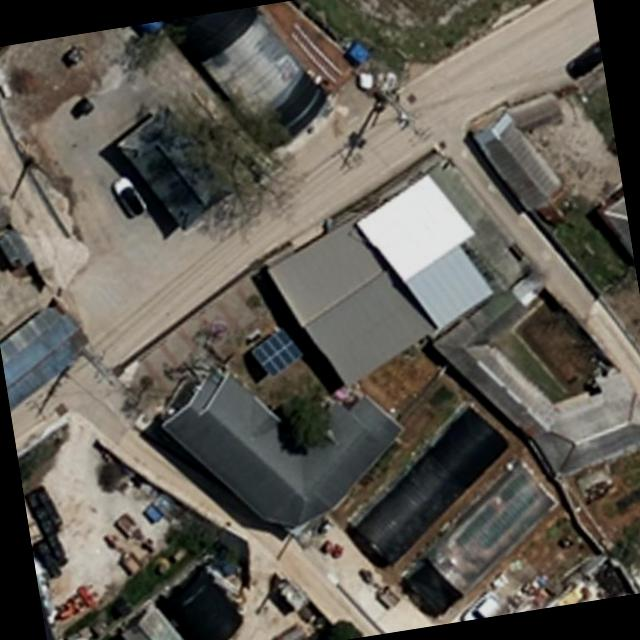solar: (248, 324, 306, 381)
